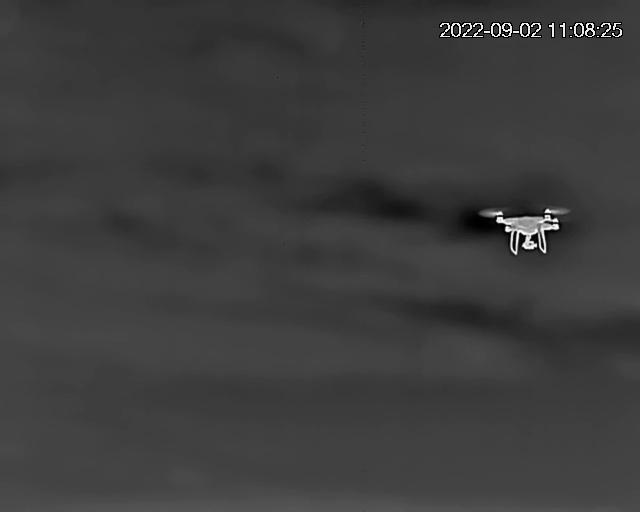DJI-Phantom: (480, 206, 571, 256)
